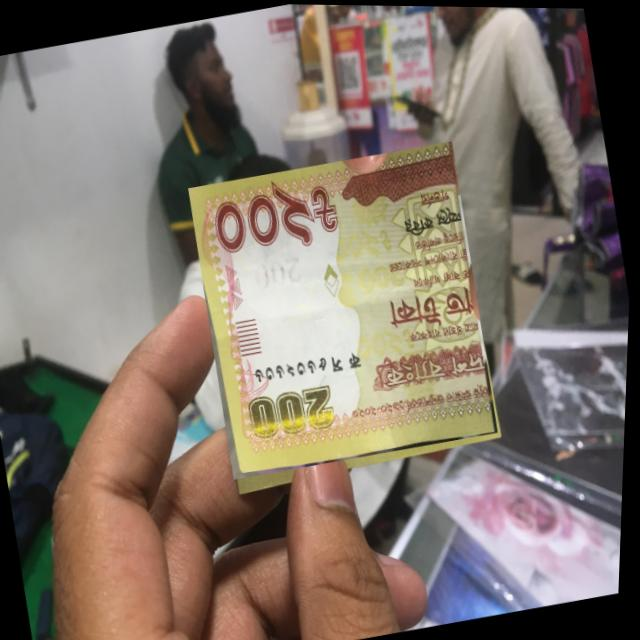Taka: (182, 136, 510, 482)
